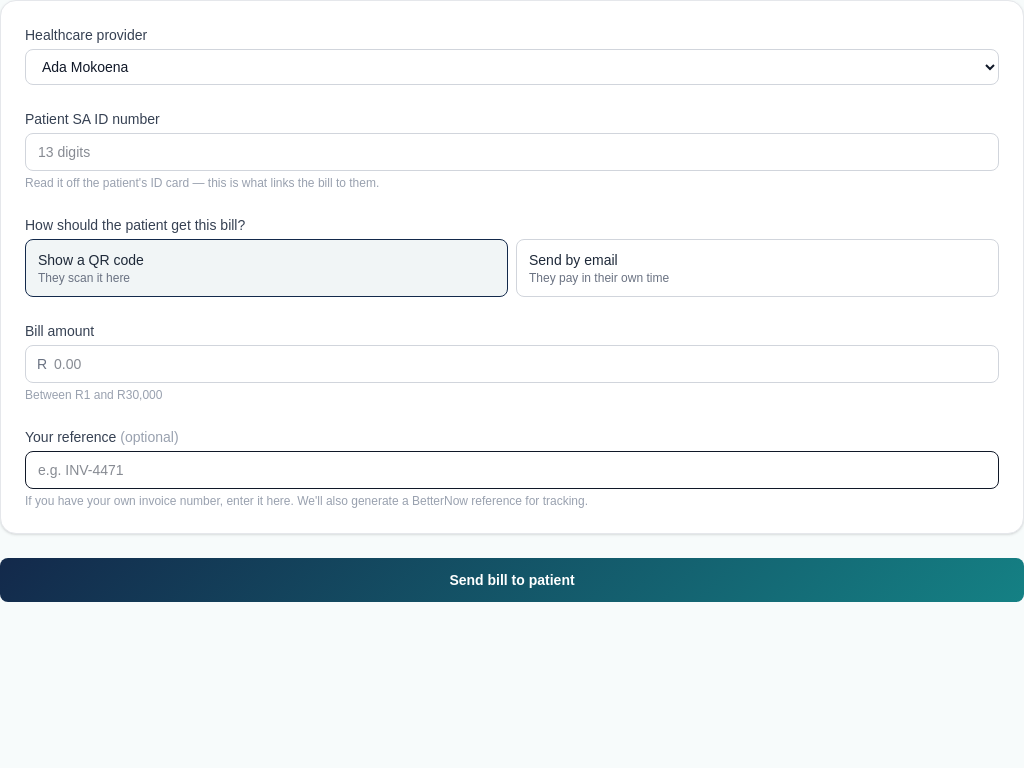
Test: valid input still submits (regression) and the preview is untouched › shows the payout preview as soon as the amount is valid
In the number field labelled "Bill amount": (512, 364) [25, 345, 999, 383], type "1000"
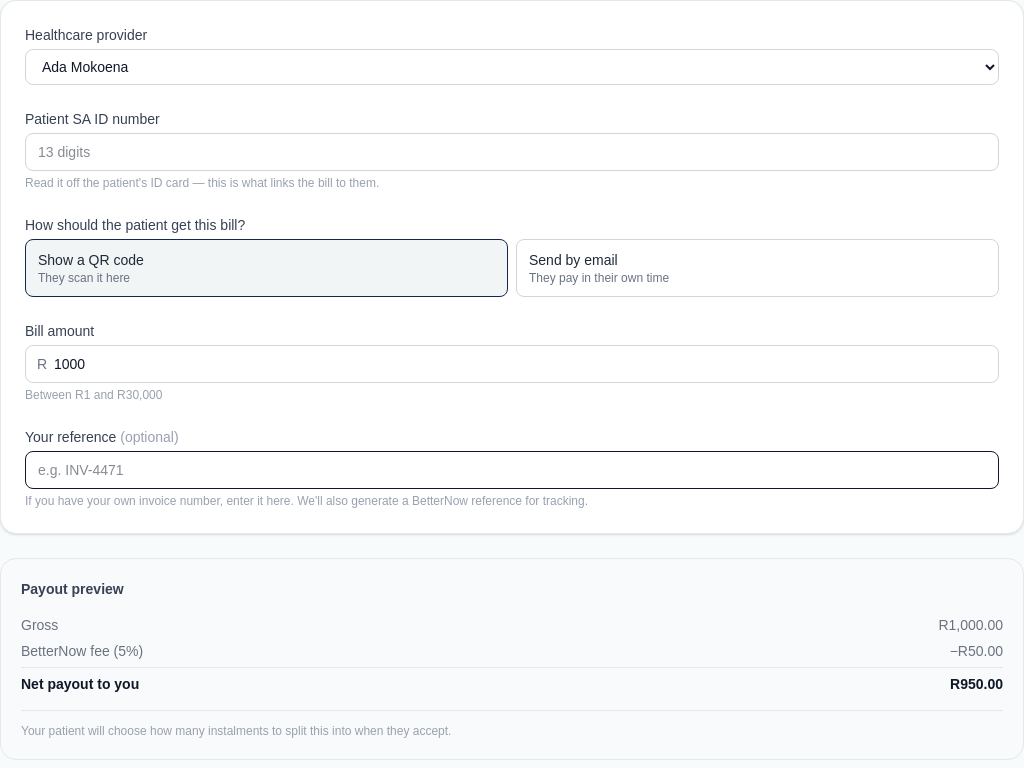
Now the heading "Payout preview" is shown, box [21, 581, 124, 597]
Now the text "Net payout to you" is shown, box [21, 674, 139, 694]
